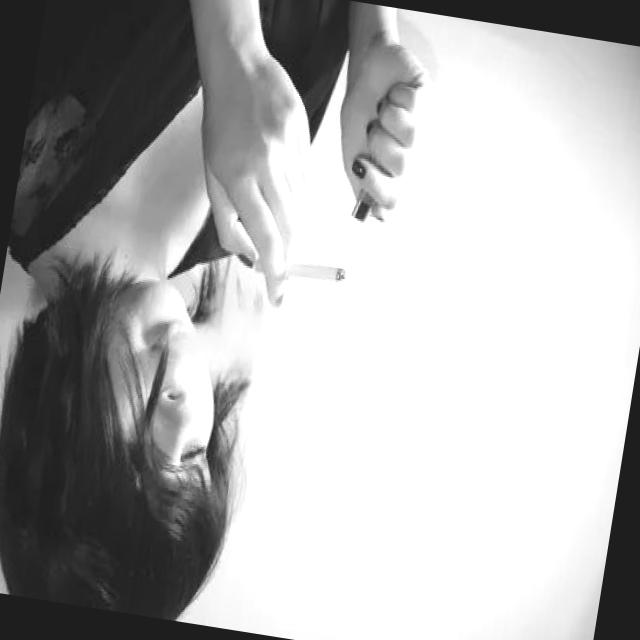cigarette: (250, 253, 347, 291)
